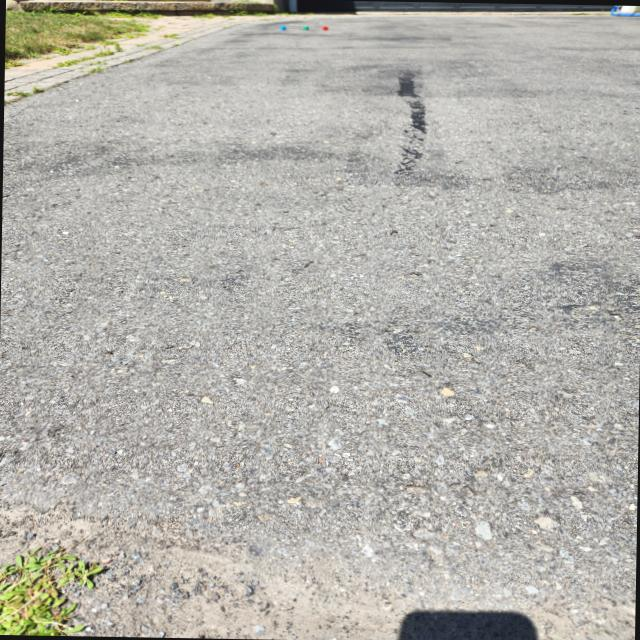bluecube: (280, 26, 286, 30)
green cube: (303, 26, 308, 30)
red cube: (321, 26, 327, 30)
